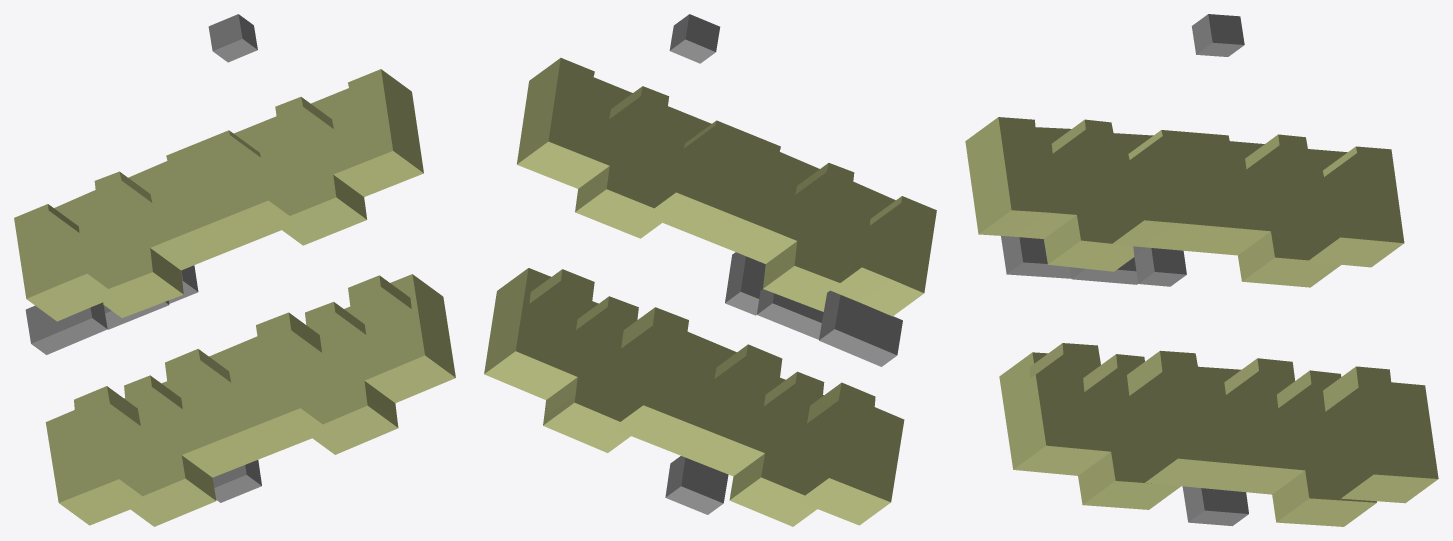
3 views of the same model, side by side, from view 1: azimuth 30°, elevation 25°; view 2: azimuth 150°, elevation 25°; view 3: azimuth 330°, elevation 25° (orthographic). The views are drawn at different scales.
Parts seen in each view (by area): view 1: 0_1_2_0_3_0_2_1_2; view 2: 0_1_2_0_3_0_2_1_2; view 3: 0_1_2_0_3_0_2_1_2.
Boxes of the visible parts, left/top/right/bottom form: 0_1_2_0_3_0_2_1_2: left=14, top=14, right=455, bottom=526; 0_1_2_0_3_0_2_1_2: left=484, top=14, right=936, bottom=526; 0_1_2_0_3_0_2_1_2: left=965, top=14, right=1438, bottom=526.
Bounding box in the file's own units: 46.08 × 50.3 × 6.68.
